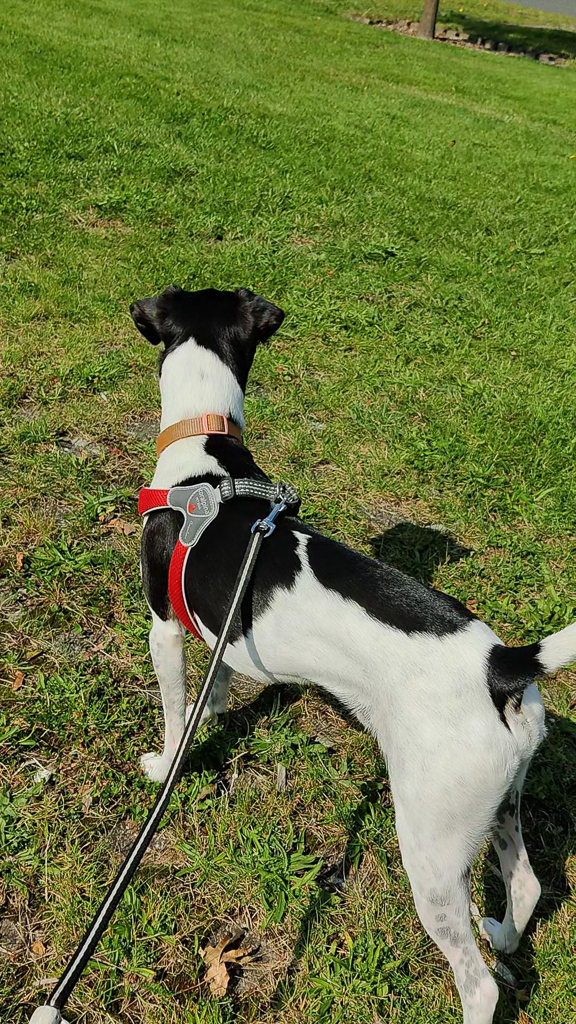Dog: (100, 251, 576, 1024)
